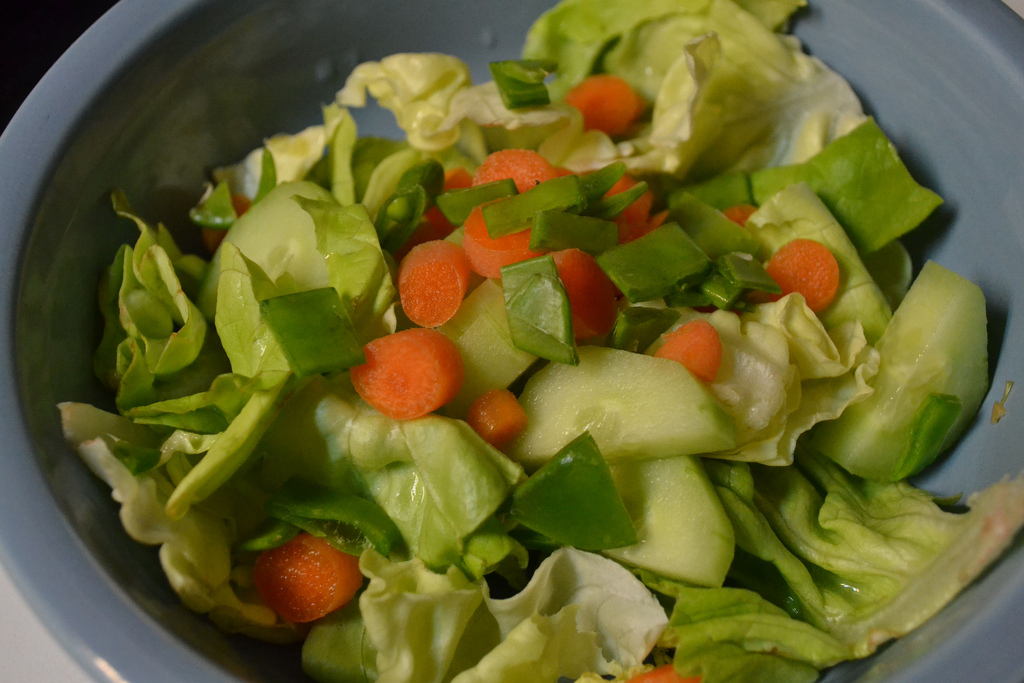chopped lettuce: (147, 22, 942, 677)
